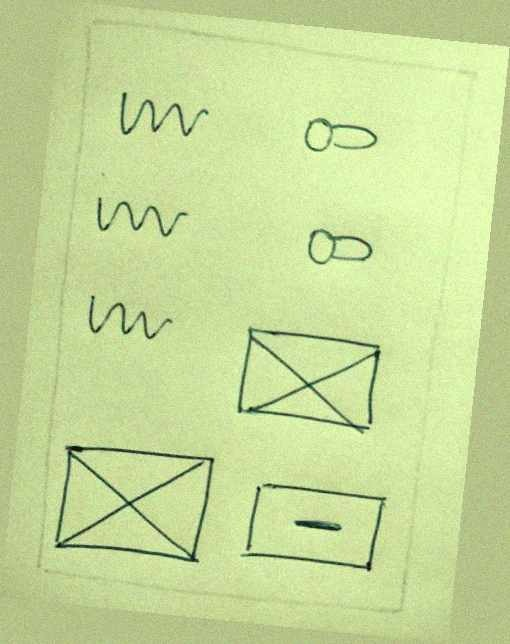button: (238, 473, 390, 580)
image: (48, 438, 217, 568), (229, 319, 385, 438)
switch: (294, 105, 389, 170), (294, 216, 380, 279)
text: (75, 286, 185, 362), (89, 186, 193, 251), (107, 84, 213, 146)
